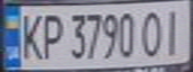0: (118, 8, 139, 60)
3: (63, 10, 87, 61)
7: (84, 10, 103, 60)
9: (100, 9, 121, 60)
I: (157, 5, 190, 57)
K: (15, 10, 45, 62)
O: (139, 7, 166, 58)
P: (39, 10, 66, 60)
